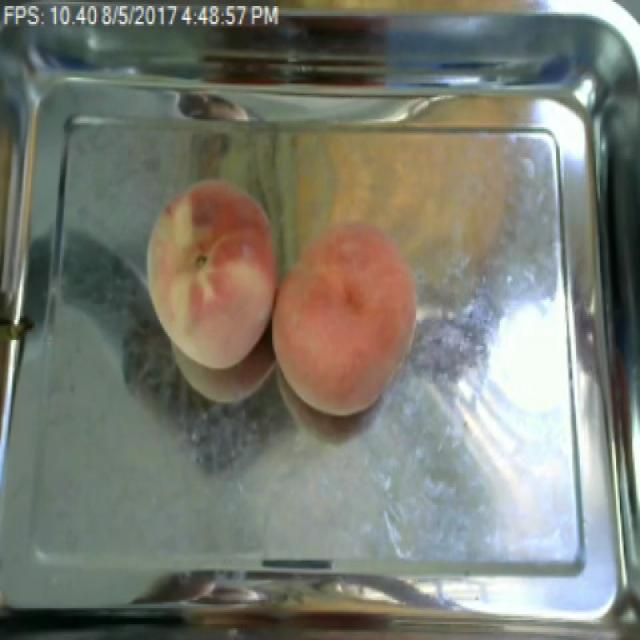Fruit: (264, 219, 428, 425), (136, 173, 291, 382)
